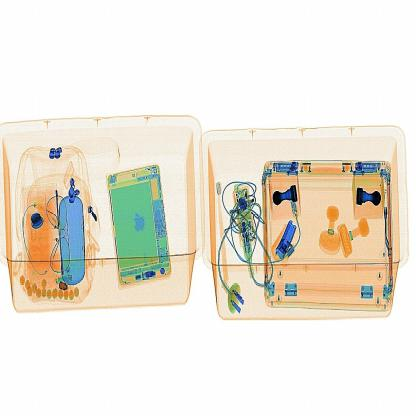pliers: (271, 219, 305, 270)
